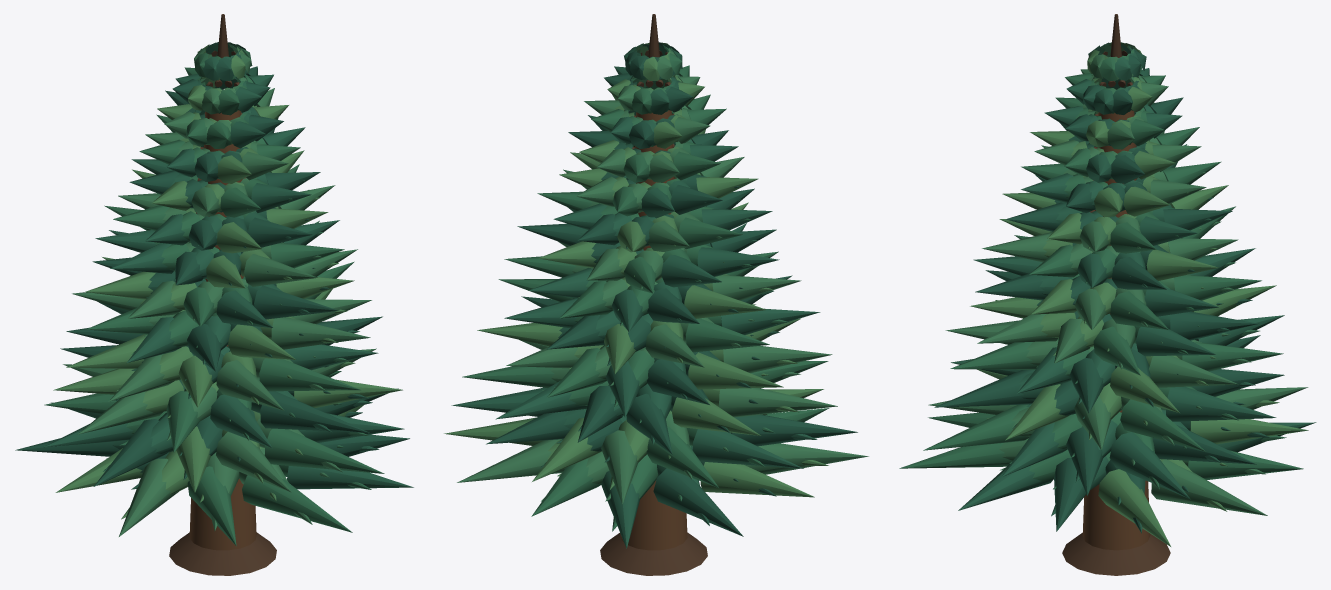
The model's file is pine_l04.glb.
3 renders of one model, left to right at view 1: azimuth 30°, elevation 25°; view 2: azimuth 150°, elevation 25°; view 3: azimuth 270°, elevation 25°, orthographic.
Visible parts, largest first — view 1: needle_sprays_2, needle_sprays_3, needle_sprays_1, needle_sprays_4, needle_sprays_5, tapered_trunk, root_flare; view 2: needle_sprays_2, needle_sprays_5, needle_sprays_3, needle_sprays_4, needle_sprays_1, tapered_trunk, root_flare; view 3: needle_sprays_3, needle_sprays_4, needle_sprays_5, needle_sprays_1, needle_sprays_2, tapered_trunk, root_flare.
Boxes of the visible parts, <box> form: needle_sprays_2: <box>63,44,376,536</box>; needle_sprays_3: <box>44,43,384,545</box>; needle_sprays_1: <box>53,44,402,519</box>; needle_sprays_4: <box>43,42,413,489</box>; needle_sprays_5: <box>15,42,409,489</box>; tapered_trunk: <box>189,110,256,550</box>; root_flare: <box>169,532,276,575</box>; needle_sprays_2: <box>457,43,868,504</box>; needle_sprays_5: <box>486,42,857,536</box>; needle_sprays_3: <box>462,43,829,531</box>; needle_sprays_4: <box>451,44,820,548</box>; needle_sprays_1: <box>444,42,828,497</box>; tapered_trunk: <box>620,110,687,550</box>; root_flare: <box>600,532,707,575</box>; needle_sprays_3: <box>899,42,1303,489</box>; needle_sprays_4: <box>951,42,1316,516</box>; needle_sprays_5: <box>934,44,1284,533</box>; needle_sprays_1: <box>970,43,1308,546</box>; needle_sprays_2: <box>928,42,1308,515</box>; tapered_trunk: <box>1082,110,1150,550</box>; root_flare: <box>1062,533,1170,575</box>.
Bounding box in the file's own units: 2.79 × 4.09 × 2.88.
